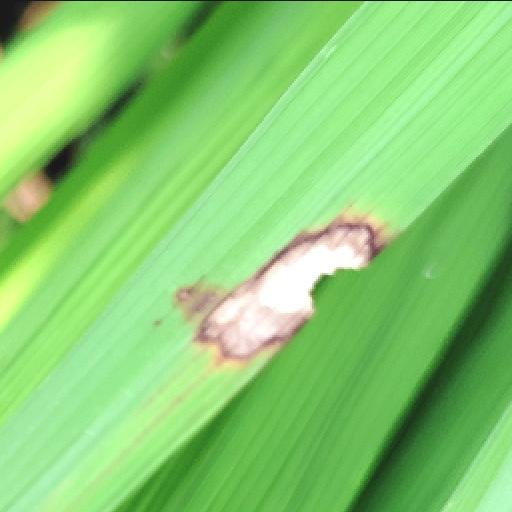Leaf Blast Disease: (136, 190, 424, 374)
